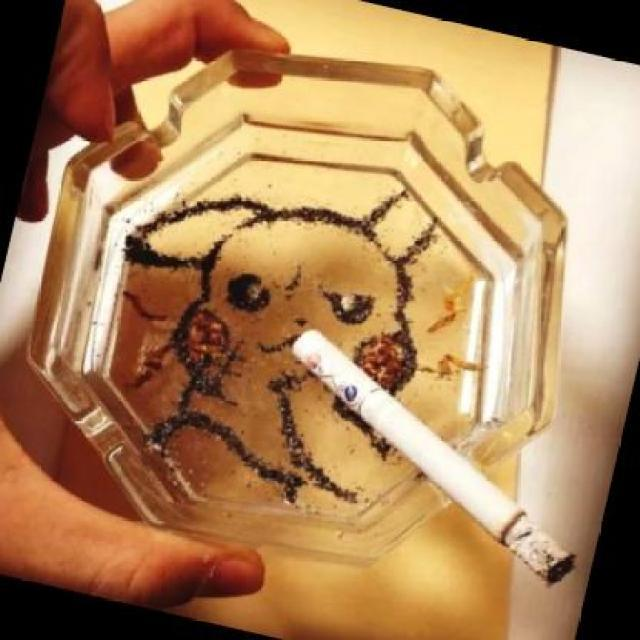cigarette: (244, 320, 621, 598)
